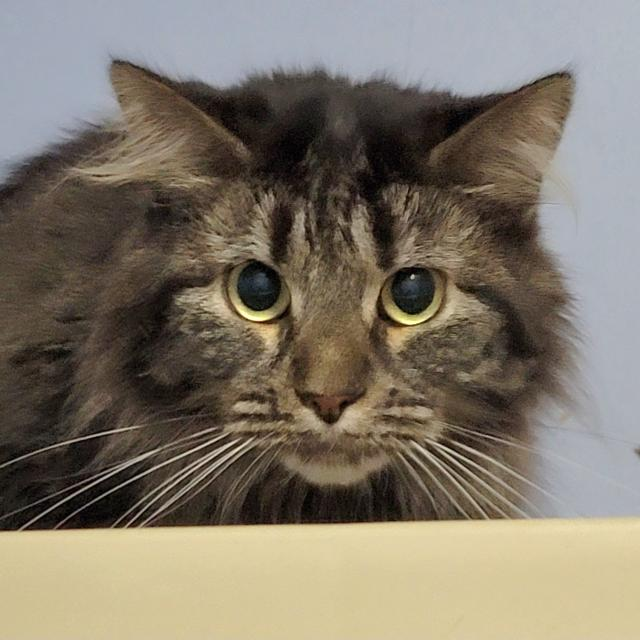maine_coon_cat: (74, 29, 596, 507)
